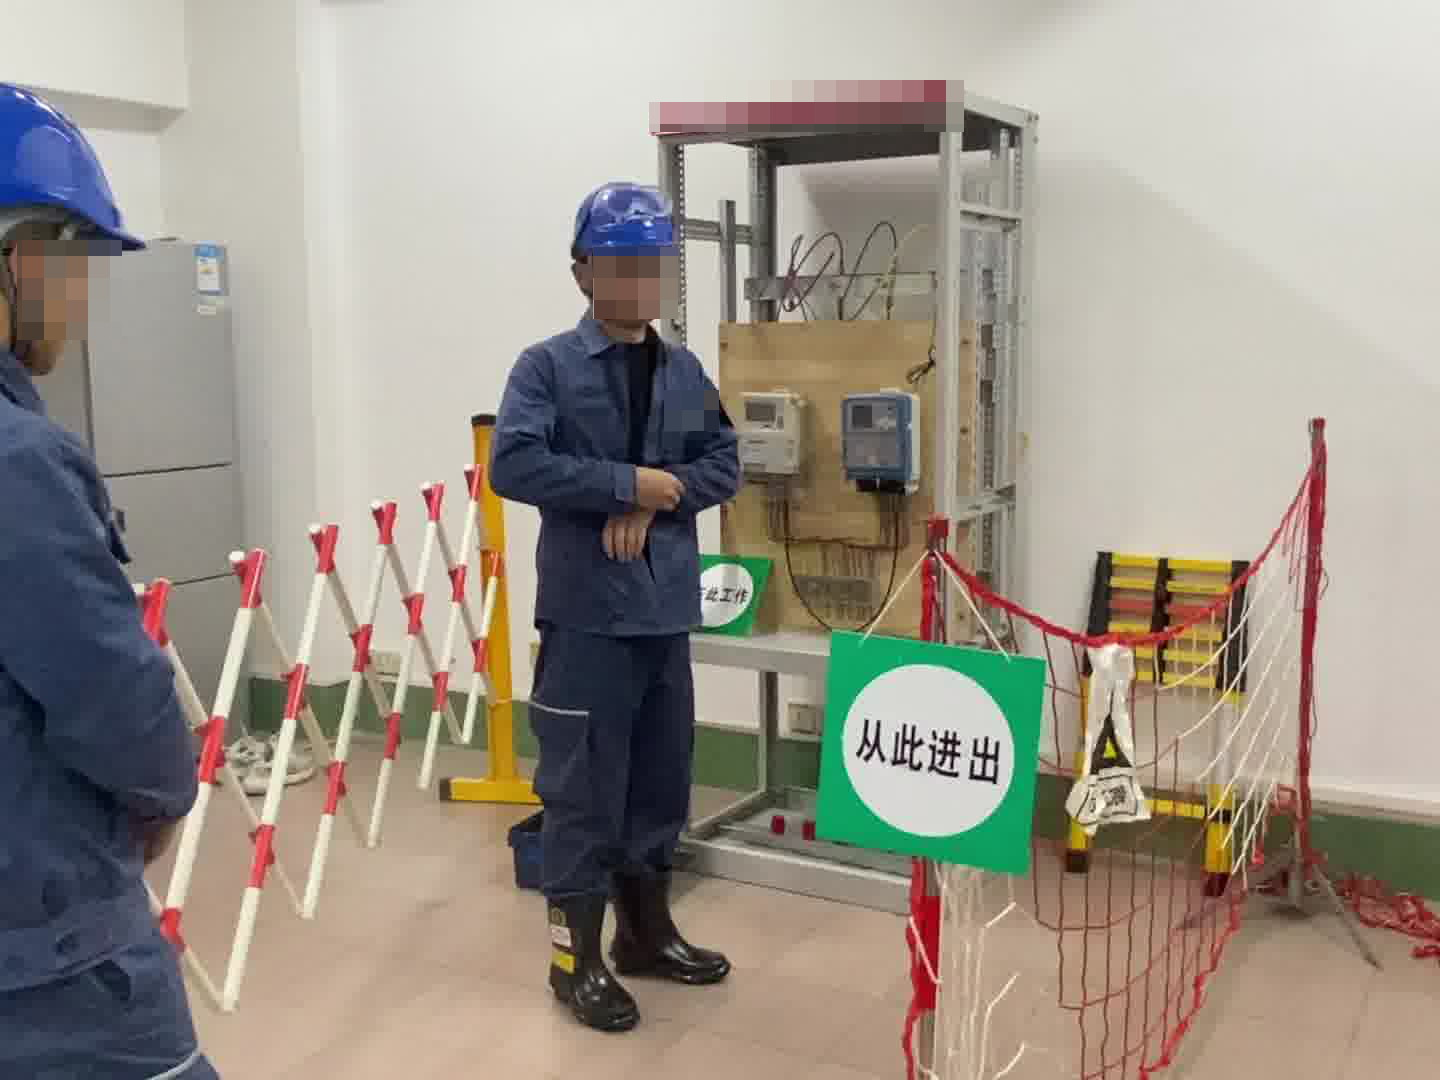downsuit: (1, 814, 248, 1080), (523, 639, 701, 917)
halt: (1, 67, 132, 392), (565, 179, 684, 329)
hand: (631, 451, 687, 521), (601, 512, 653, 565)
inear: (1, 219, 74, 366), (563, 256, 614, 322)
intosign: (810, 614, 1060, 880)
person: (1, 41, 249, 1078), (479, 172, 753, 1006)
shoe: (522, 884, 641, 1036), (610, 874, 738, 992)
upsuit: (1, 379, 204, 1050), (487, 323, 744, 637)
worksign: (690, 553, 775, 644)
wrongsuit: (604, 339, 671, 585)
